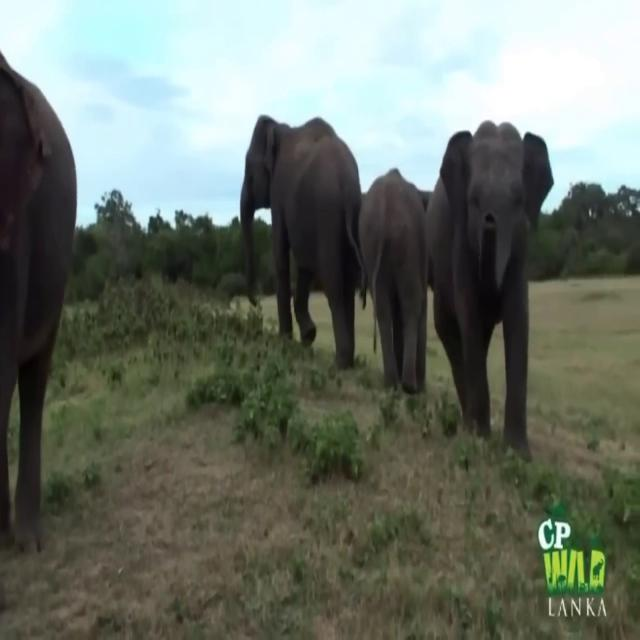Elephant: (425, 118, 554, 462), (0, 47, 78, 554), (239, 113, 367, 370), (358, 166, 433, 395)
